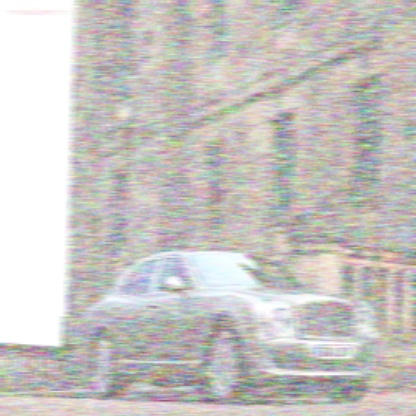Vehicle: (78, 247, 378, 406)
